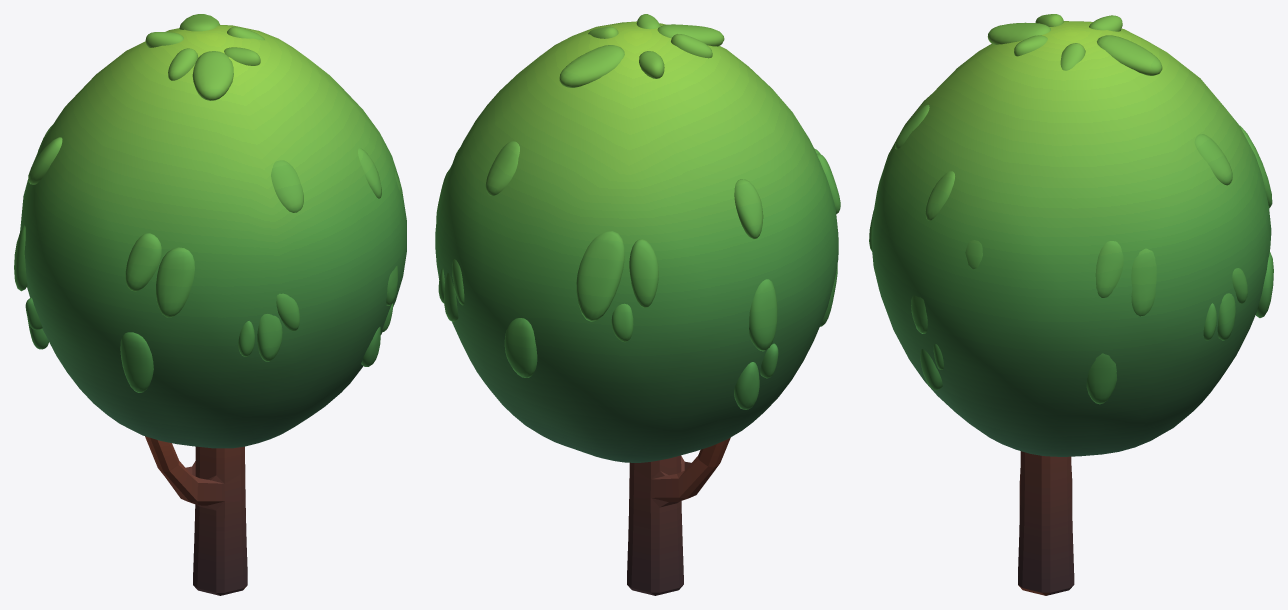
Rendered from tree2.fbx.
The picture shows the model from 3 angles, left to right: view 1: azimuth 30°, elevation 25°; view 2: azimuth 150°, elevation 25°; view 3: azimuth 270°, elevation 25°; orthographic projection. The views are drawn at different scales.
Parts seen in each view (by area): view 1: Plane.008; view 2: Plane.008; view 3: Plane.008.
Boxes of the visible parts, x1,y1,x2,y2 form: Plane.008: (14,14,406,595); Plane.008: (435,14,840,595); Plane.008: (869,14,1273,595).
Size of the model in its own units: 1.83 by 2.81 by 1.86.
